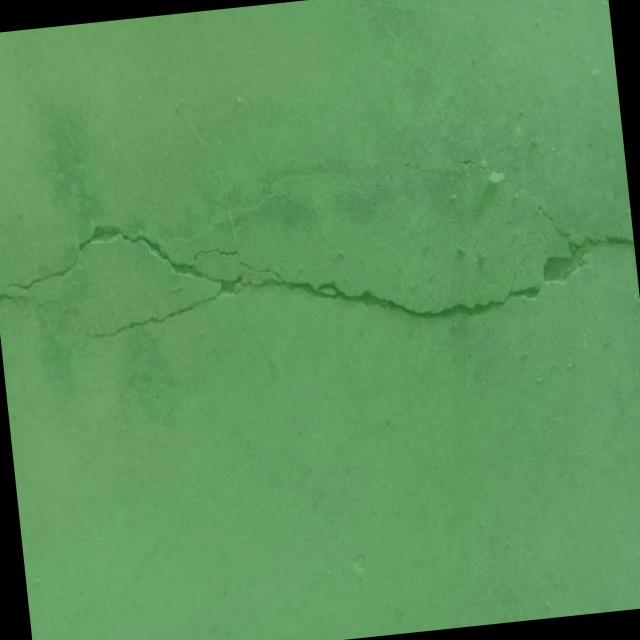crack: (0, 142, 639, 366), (354, 158, 436, 198), (0, 280, 77, 321), (510, 248, 536, 281), (479, 274, 508, 290)
